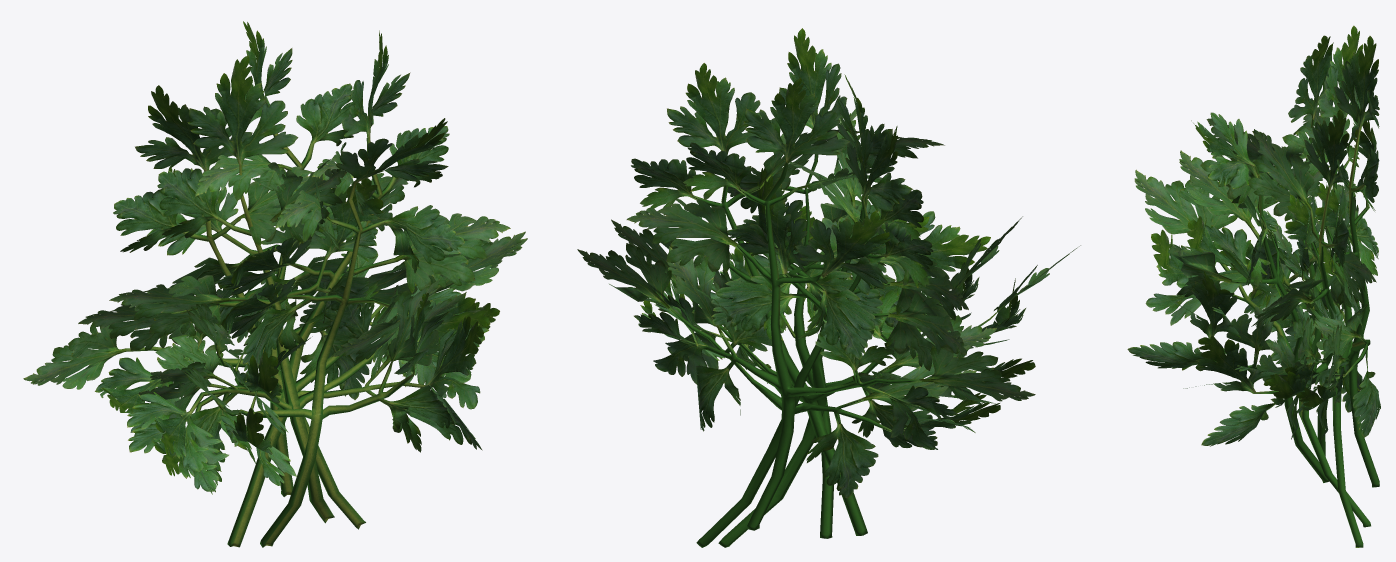
Rendered from Parsley.obj.
3 views of the same model, side by side, from view 1: azimuth 30°, elevation 25°; view 2: azimuth 150°, elevation 25°; view 3: azimuth 270°, elevation 25° (orthographic). The views are drawn at different scales.
Parts seen in each view (by area): view 1: Parsley_04; view 2: Parsley_04; view 3: Parsley_04.
Boxes of the visible parts, x1=… form: Parsley_04: x1=23, y1=21, x2=527, y2=547; Parsley_04: x1=577, y1=28, x2=1080, y2=547; Parsley_04: x1=1127, y1=25, x2=1380, y2=547.
Bounding box in the file's own units: 4 × 4 × 2.
1 material, 1 textured.
